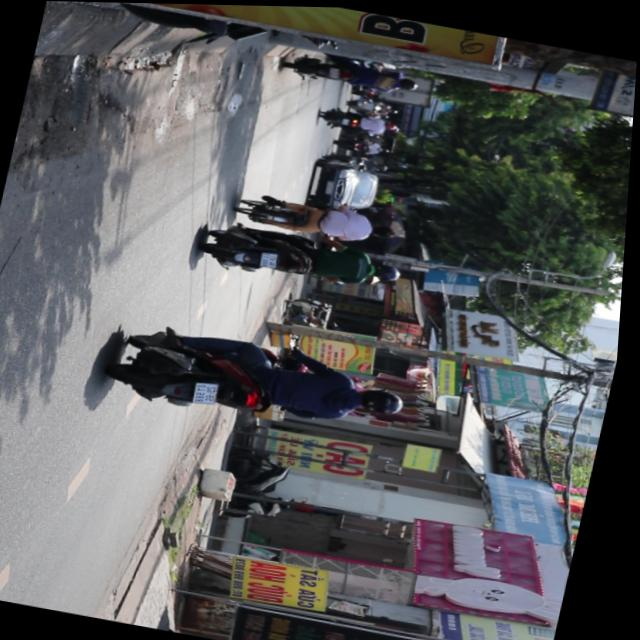helmet: (361, 384, 413, 418), (376, 260, 409, 282)
licenseplate: (104, 314, 422, 446), (200, 216, 415, 300)
nohelmet: (199, 380, 225, 405), (264, 251, 283, 267)
